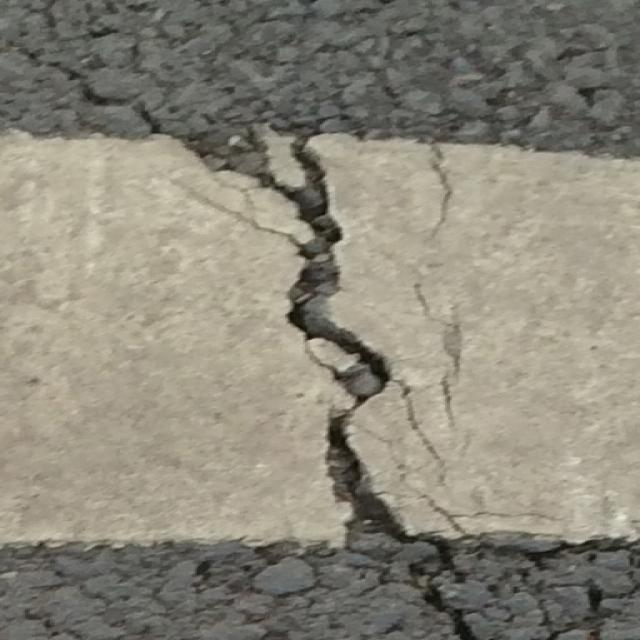crack: (29, 24, 486, 638)
spall: (221, 138, 416, 546)
